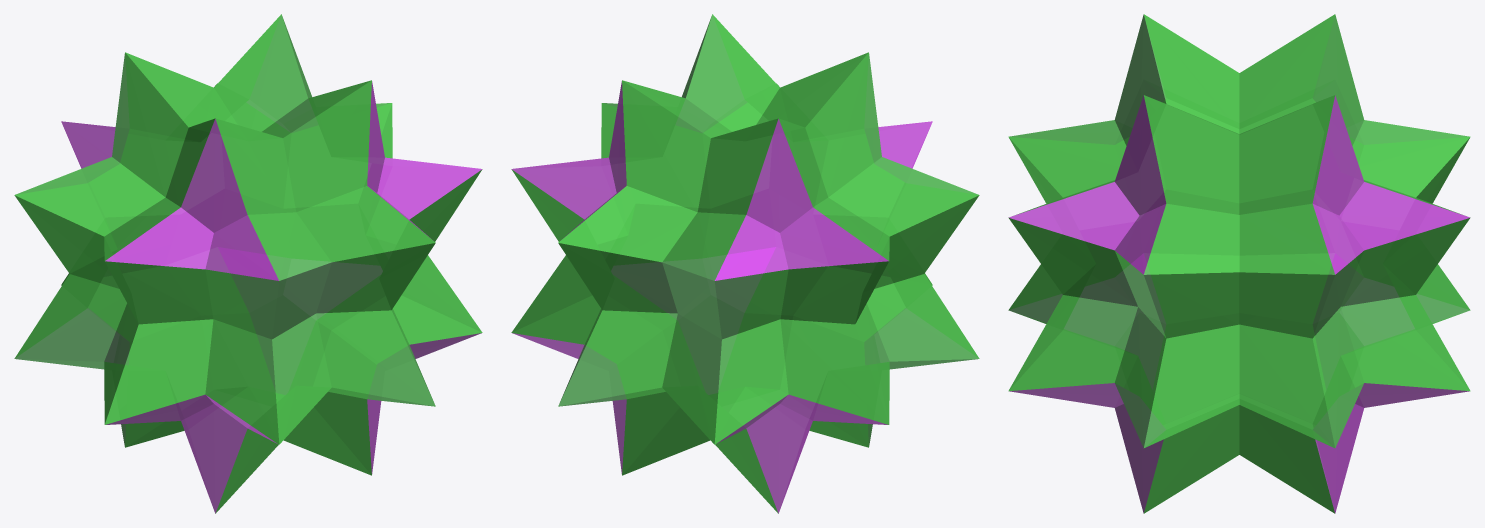
The model's file is Rhombicuboctahedron.obj.
The picture shows the model from 3 angles, left to right: view 1: azimuth 30°, elevation 25°; view 2: azimuth 150°, elevation 25°; view 3: azimuth 270°, elevation 25°; orthographic projection. The views are drawn at different scales.
Bounding box in the file's own units: 2.41 × 2.41 × 2.41.
